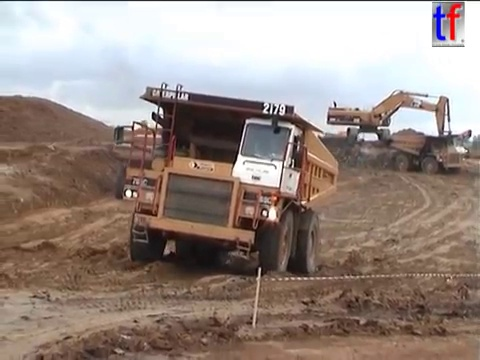excavator: (324, 87, 457, 154), (437, 127, 472, 160)
truck: (112, 79, 340, 276), (110, 126, 191, 202), (382, 130, 469, 175)
